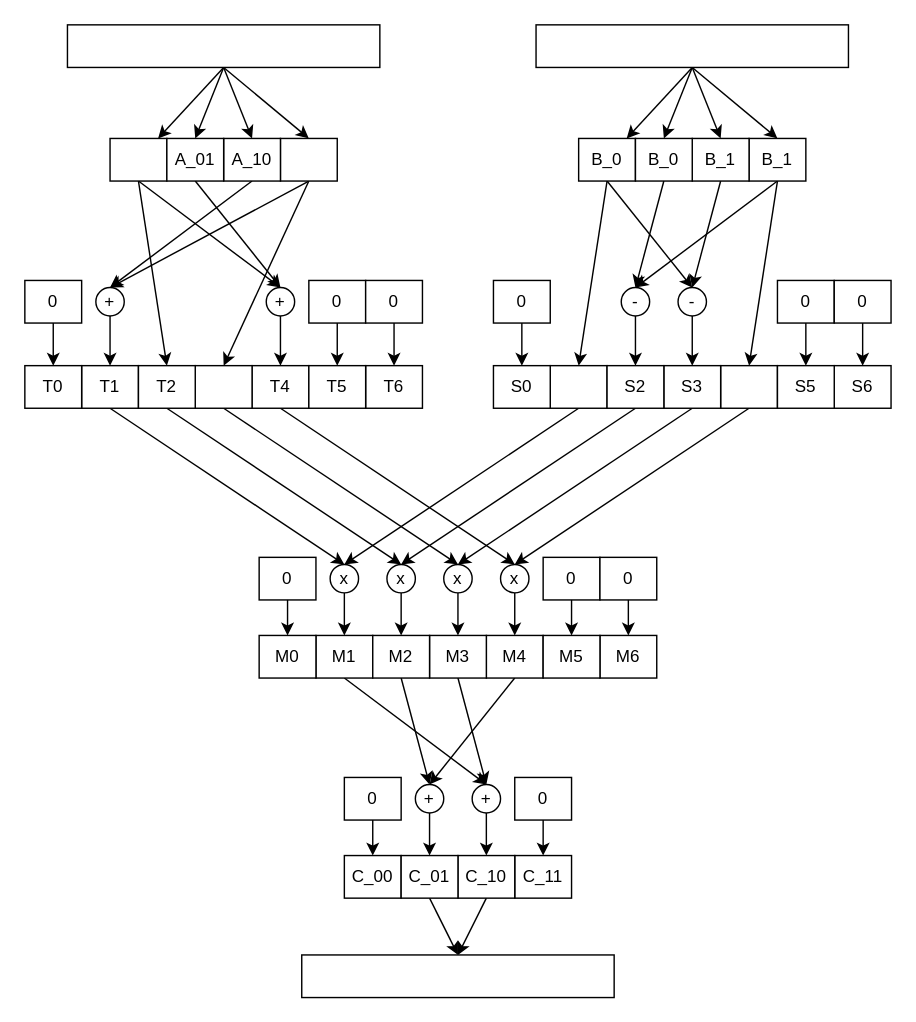
The diagram is 916 pixels wide and 1022 high, and some of its shapes have lost their labels. The shapes that lost their labels are listed below. From the top down, each one's centre as x and y in pixels, then its label:
At point 223,45: "A_ij".
At point 691,45: "B_i".
At point 138,159: "A_00".
At point 308,159: "A_11".
At point 223,386: "T3".
At point 578,386: "S1".
At point 748,386: "S4".
At point 457,976: "C_i".
